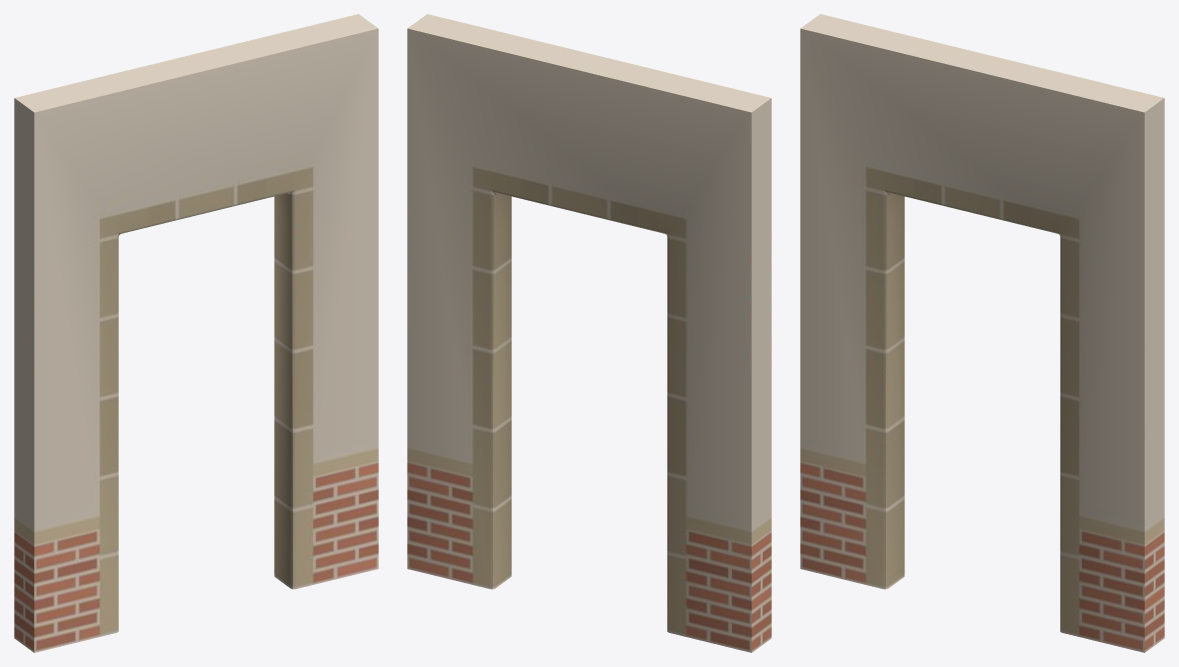
The model's file is modular-wall-door.glb.
The picture shows the model from 3 angles, left to right: view 1: azimuth 30°, elevation 25°; view 2: azimuth 150°, elevation 25°; view 3: azimuth 330°, elevation 25°; orthographic projection.
Parts seen in each view (by area): view 1: modular-wall-door_body; view 2: modular-wall-door_body; view 3: modular-wall-door_body.
Boxes of the visible parts, left/top/right/bottom form: modular-wall-door_body: left=14, top=14, right=378, bottom=652; modular-wall-door_body: left=407, top=14, right=771, bottom=652; modular-wall-door_body: left=800, top=14, right=1164, bottom=652.
Bounding box in the file's own units: 2 × 3 × 0.2.
Materials: 1 (1 with a texture image).
